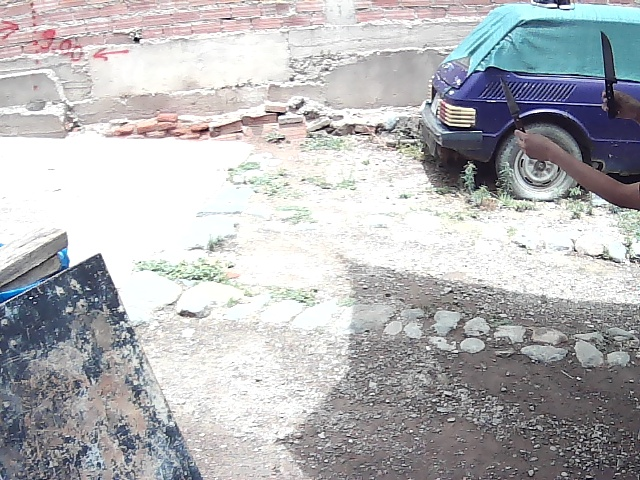cuchillo: (596, 25, 625, 120)
